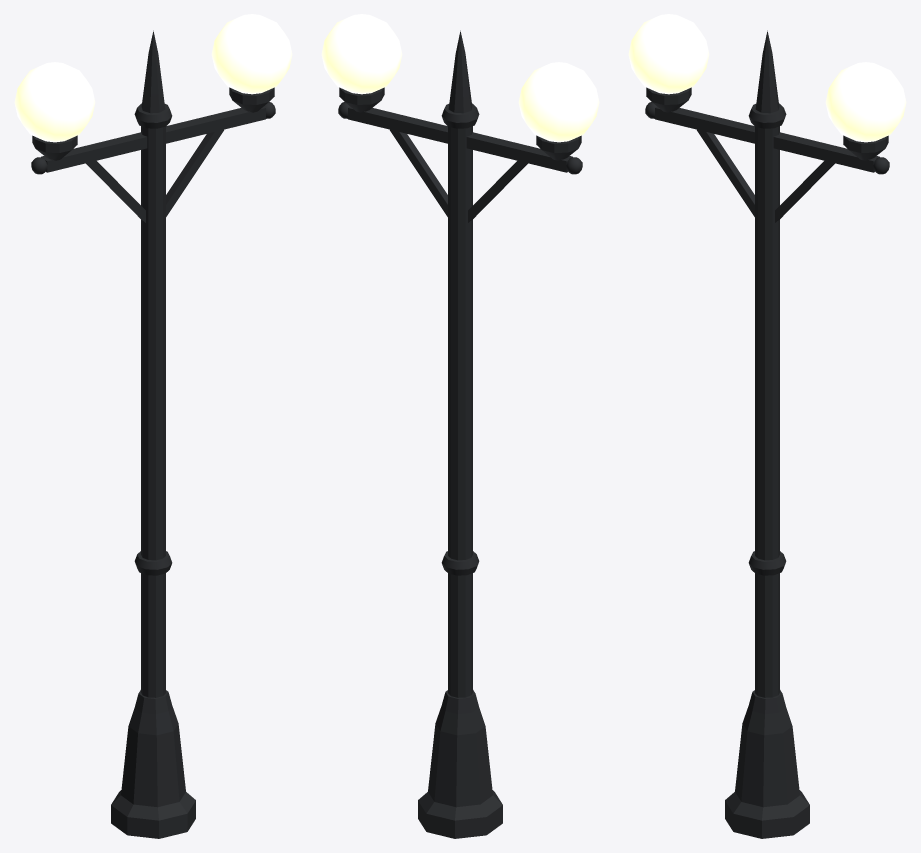
File: poste_globo.glb
3 views of the same model, side by side, from view 1: azimuth 30°, elevation 25°; view 2: azimuth 150°, elevation 25°; view 3: azimuth 330°, elevation 25° (orthographic).
Parts seen in each view (by area): view 1: poste_globo; view 2: poste_globo; view 3: poste_globo.
Part boxes in pixels (x1=…): poste_globo: x1=14, y1=14, x2=292, y2=838; poste_globo: x1=321, y1=14, x2=599, y2=838; poste_globo: x1=628, y1=14, x2=906, y2=838.
Bounding box in the file's own units: 1.22 × 3.45 × 0.32.
